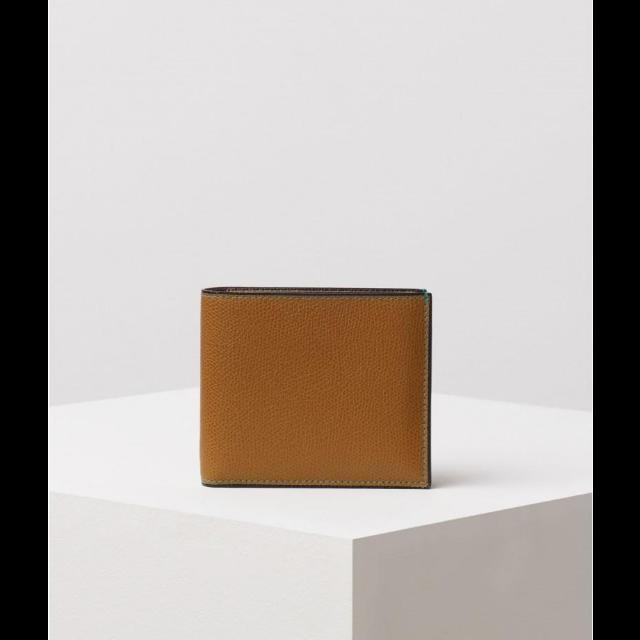Wallet: (193, 279, 443, 495)
